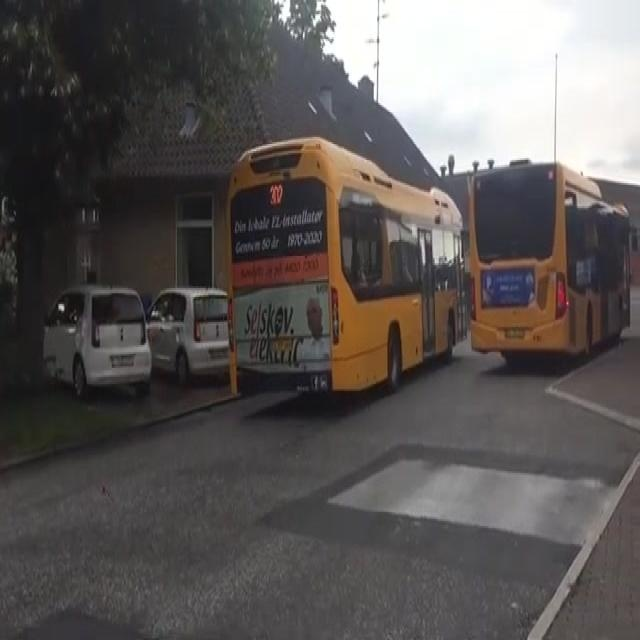Bus: (222, 132, 463, 400), (467, 156, 635, 358)
